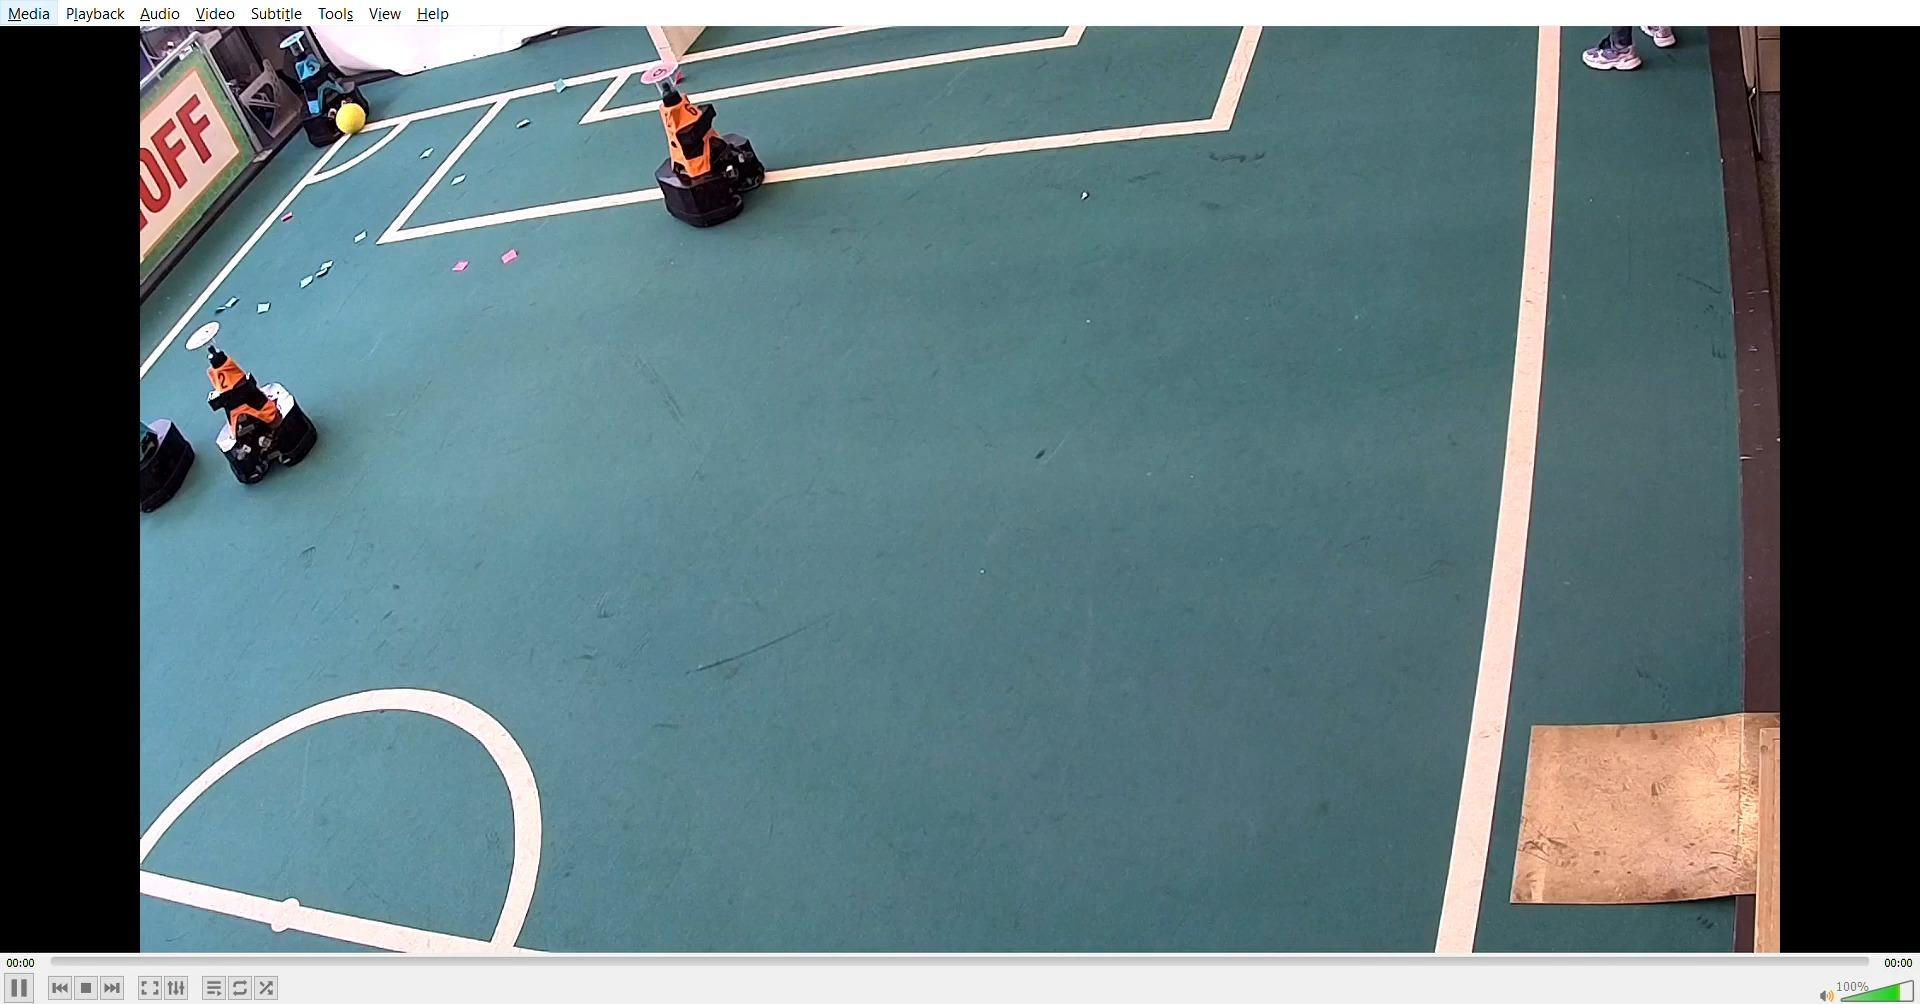Ball: (328, 98, 375, 132)
Team_Blue: (273, 29, 377, 151)
Team_Red: (179, 321, 340, 486), (629, 57, 767, 217)
